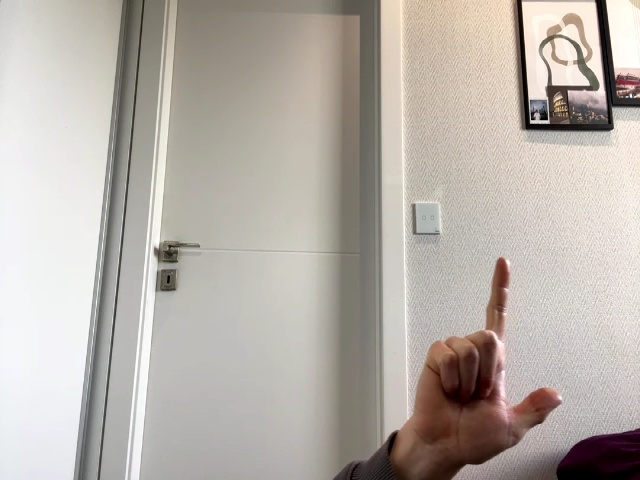L: (416, 257, 564, 459)
